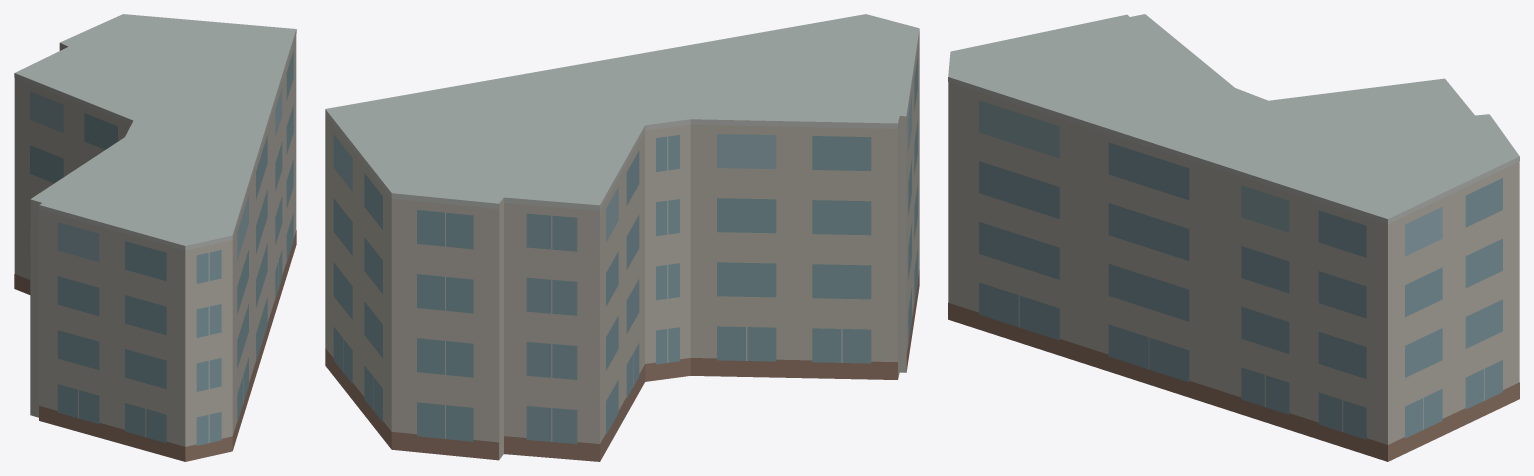
File: survey-upis-32948237.glb
3 renders of one model, left to right at view 1: azimuth 30°, elevation 25°; view 2: azimuth 150°, elevation 25°; view 3: azimuth 270°, elevation 25°, orthographic. The views are drawn at different scales.
Parts seen in each view (by area): view 1: survey-upis-32948237.tmp; view 2: survey-upis-32948237.tmp; view 3: survey-upis-32948237.tmp.
Boxes of the visible parts, <box> form: survey-upis-32948237.tmp: <box>14,14,296,461</box>; survey-upis-32948237.tmp: <box>325,14,919,461</box>; survey-upis-32948237.tmp: <box>948,14,1519,461</box>.
Size of the model in its own units: 21.22 by 11.7 by 24.98.
